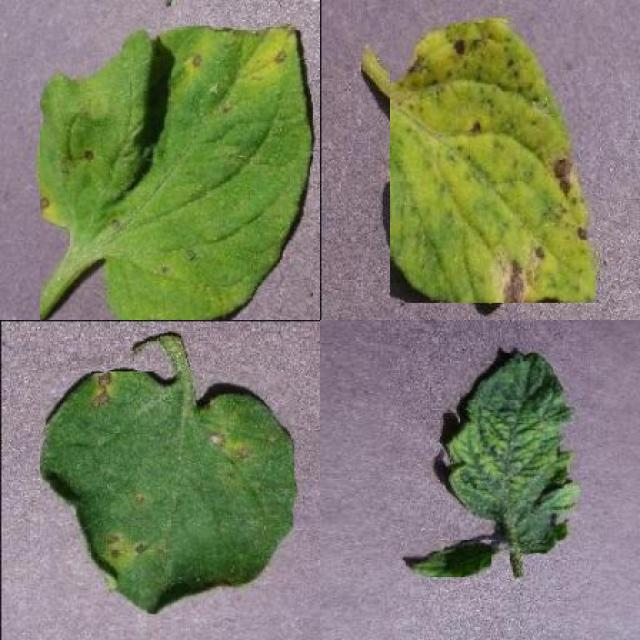Mosaic Virus: (446, 353, 581, 554), (407, 540, 492, 577)
Septoria: (40, 26, 313, 320), (41, 372, 295, 614), (391, 24, 596, 304)
